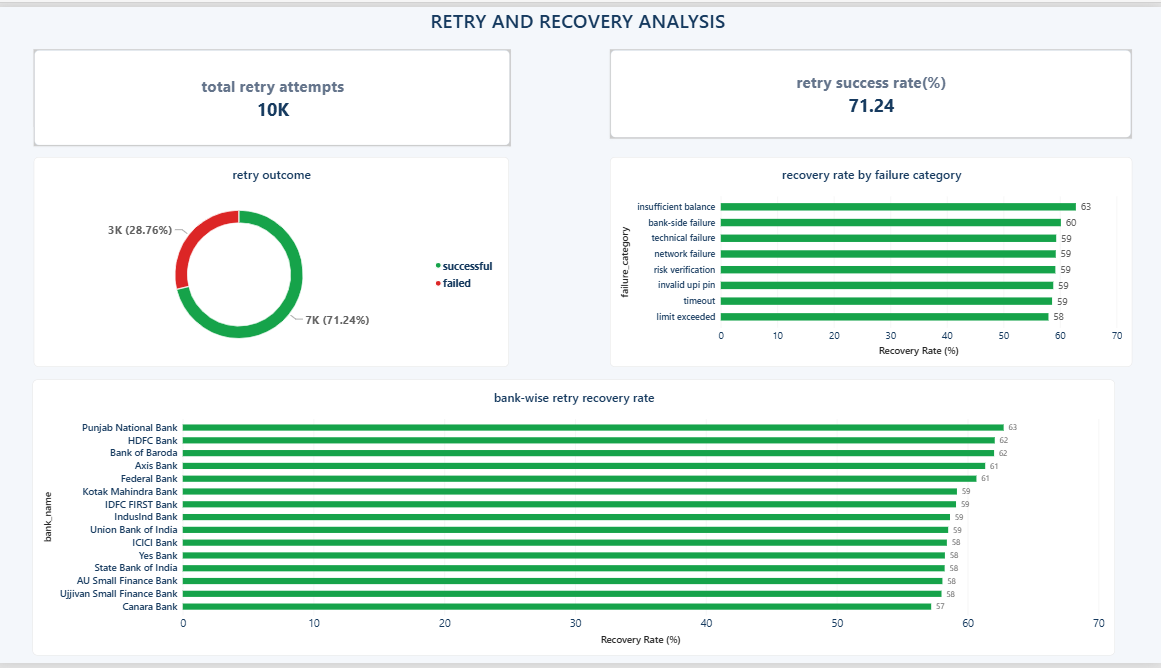

What the dashboard file says about the page in this screenshot:
{"tool":"powerbi","page":{"name":"retry & recovery","canvas":[1920,1080],"ordinal":2},"visuals":[{"type":"textbox","box":[0,0,1920.1,47.1],"z":0},{"type":"cardVisual","fields":{"Data":["Sum(public vw_retry_summary.total_retries)"]},"box":[63.8,70,785.4,159.3],"z":1000},{"type":"cardVisual","fields":{"Data":["public vw_age_group_performance.retry success rate"]},"box":[1012.7,70,859.6,146.6],"z":2000},{"type":"donutChart","title":"retry outcome","fields":{"Category":["retry outcome.status"],"Y":["retry outcome.retry outcome count"]},"box":[63.8,247,782.2,345.8],"z":3000},{"type":"clusteredBarChart","title":"recovery rate by failure category","fields":{"Category":["public vw_failure_category_recovery.failure_category"],"Y":["Sum(public vw_failure_category_recovery.recovery_rate)"]},"box":[1012.7,247,860.4,345.8],"z":4000},{"type":"clusteredBarChart","title":"bank-wise retry recovery rate","fields":{"Category":["public vw_bank_retry_recovery.bank_name"],"Y":["Sum(public vw_bank_retry_recovery.recovery_rate)"]},"box":[61.5,613.5,1782.5,454.2],"z":5000}]}

Visuals, with their boxes in screenshot pixels (x1, y1, x2, y2), scaled from the page's 1920x1080 canvas onto the 1161x668 screenshot:
textbox: [0, 0, 1160, 29]
cardVisual - Sum(public vw_retry_summary.total_retries): [39, 43, 514, 142]
cardVisual - public vw_age_group_performance.retry success rate: [612, 43, 1132, 134]
"retry outcome" donutChart: [39, 153, 512, 367]
"recovery rate by failure category" clusteredBarChart: [612, 153, 1133, 367]
"bank-wise retry recovery rate" clusteredBarChart: [37, 379, 1115, 660]
